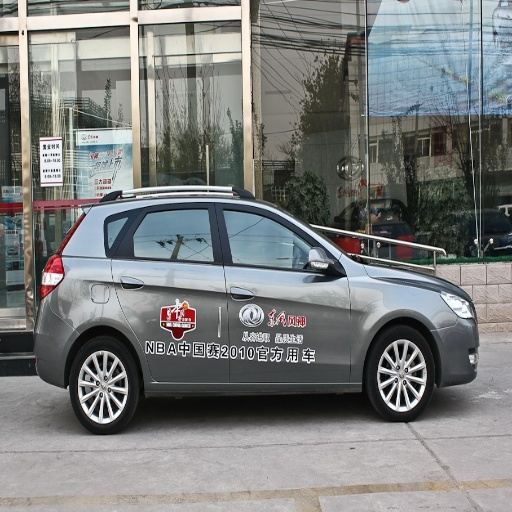back_right_door: (106, 199, 229, 380)
front_right_door: (219, 200, 350, 380)
